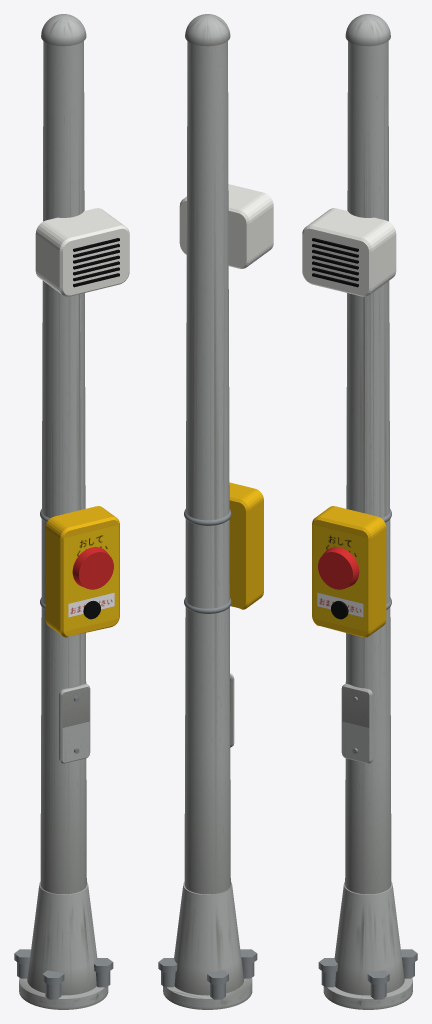
3 renders of one model, left to right at view 1: azimuth 30°, elevation 25°; view 2: azimuth 150°, elevation 25°; view 3: azimuth 330°, elevation 25°, orthographic.
Visible parts, largest first — view 1: jp-ped-button; view 2: jp-ped-button; view 3: jp-ped-button.
Boxes of the visible parts, <box> form: jp-ped-button: <box>14,14,129,1009</box>; jp-ped-button: <box>158,14,273,1009</box>; jp-ped-button: <box>302,14,417,1009</box>.
Size of the model in its own units: 0.2204 by 2.66 by 0.2752.
9 materials, 2 textured.
